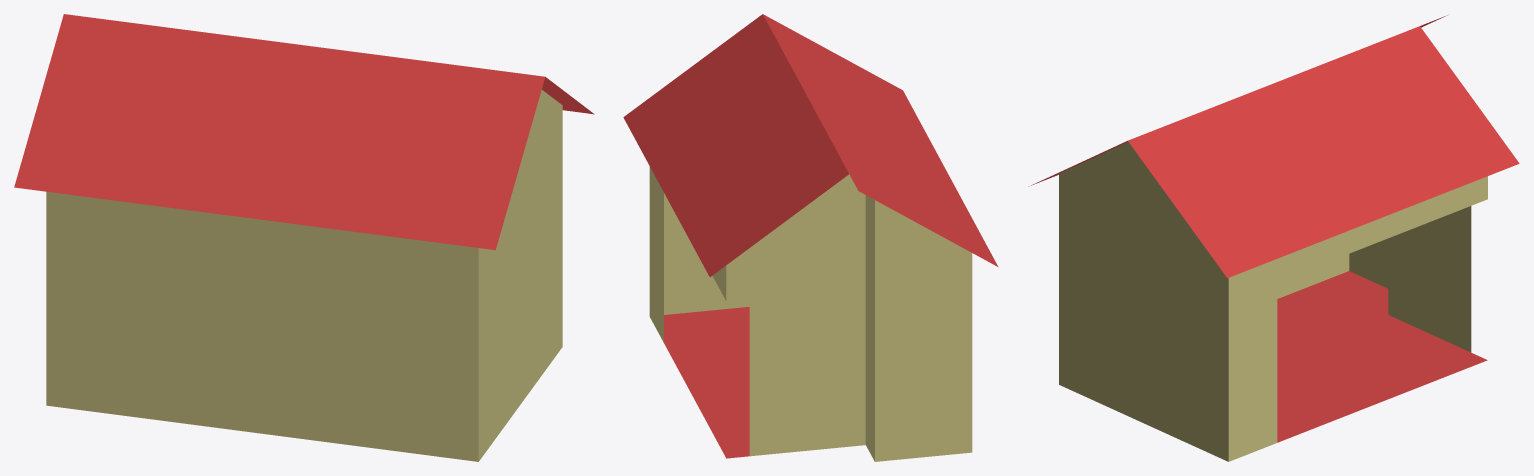
3 views of the same model, side by side, from view 1: azimuth 30°, elevation 25°; view 2: azimuth 150°, elevation 25°; view 3: azimuth 270°, elevation 25° (orthographic). The views are drawn at different scales.
Size of the model in its own units: 17.19 by 16.42 by 10.64.
